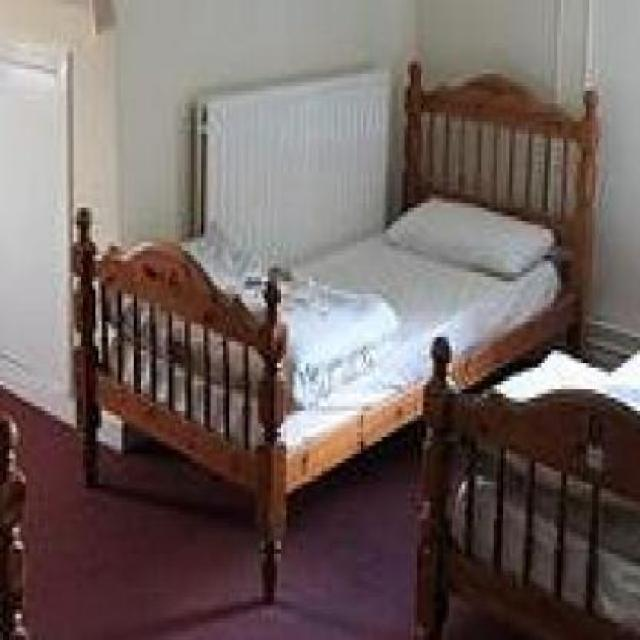Bed: (54, 55, 616, 620)
